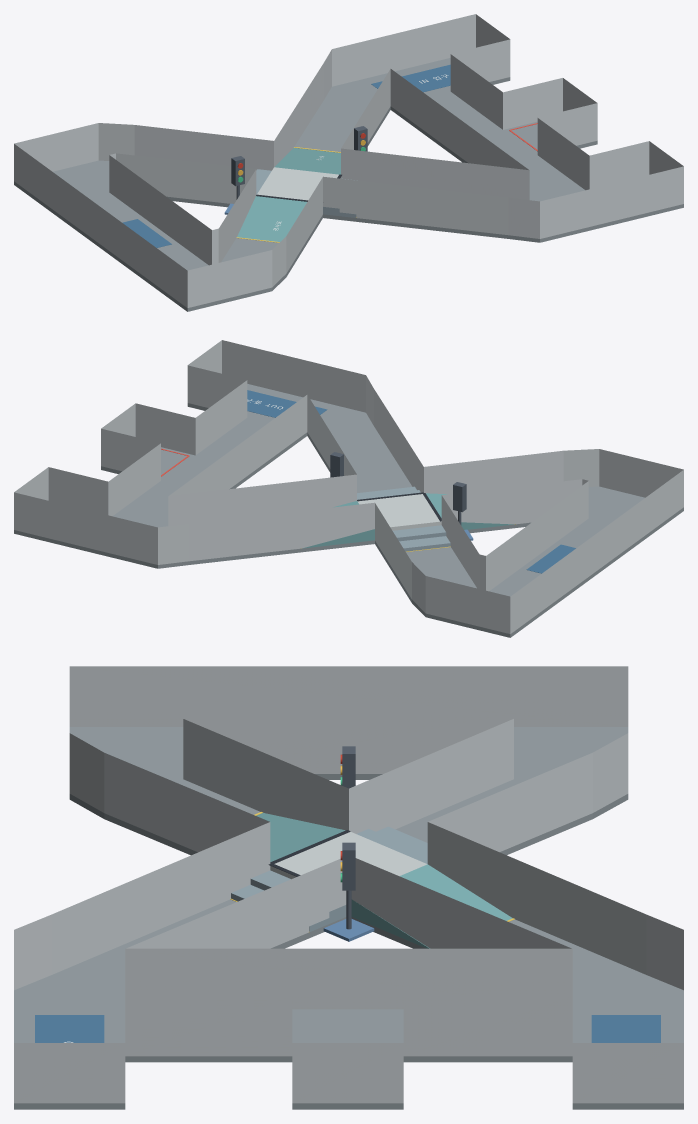
The model's file is arena.glb.
3 renders of one model, top to bottom at view 1: azimuth 30°, elevation 25°; view 2: azimuth 150°, elevation 25°; view 3: azimuth 270°, elevation 25°, orthographic. The views are drawn at different scales.
Parts seen in each view (by area): view 1: wall_outer_04, wall_outer_22, wall_right_inner_03, wall_outer_06, wall_outer_16, wall_outer_19, wall_right_inner_02, wall_left_inner_05, wall_left_inner_02, floor_right_straight, floor_left_straight, wall_outer_01 (+29 smaller); view 2: wall_outer_18, wall_outer_22, wall_right_inner_01, wall_outer_16, wall_outer_06, wall_right_inner_02, wall_outer_03, wall_left_inner_05, floor_right_straight, wall_left_inner_03, floor_left_straight, wall_outer_21 (+31 smaller); view 3: wall_outer_22, wall_right_inner_02, wall_outer_04, wall_left_inner_05, wall_outer_18, wall_outer_13, wall_outer_09, wall_left_inner_02, wall_left_inner_03, wall_right_inner_03, wall_right_inner_01, wall_outer_03 (+28 smaller).
Part boxes in pixels (box(x1,y1,x2,y2)): wall_outer_04: box(323, 176, 508, 235); wall_outer_22: box(14, 144, 187, 307); wall_right_inner_03: box(341, 148, 529, 199); wall_outer_06: box(540, 166, 683, 238); wall_outer_16: box(332, 14, 475, 86); wall_outer_19: box(134, 125, 273, 170); wall_right_inner_02: box(390, 69, 528, 169); wall_left_inner_05: box(109, 155, 211, 265); wall_left_inner_02: box(116, 153, 255, 203); floor_right_straight: box(390, 91, 584, 201); floor_left_straight: box(14, 166, 247, 311); wall_outer_01: box(187, 250, 272, 307); wall_outer_18: box(189, 502, 374, 561); wall_outer_22: box(510, 470, 683, 633); wall_right_inner_01: box(168, 474, 356, 525); wall_outer_16: box(14, 492, 157, 564); wall_outer_06: box(222, 340, 365, 412); wall_right_inner_02: box(169, 395, 307, 495); wall_outer_03: box(424, 450, 563, 494); wall_left_inner_05: box(486, 481, 588, 591); floor_right_straight: box(113, 417, 307, 527); wall_left_inner_03: box(442, 479, 582, 524); floor_left_straight: box(450, 492, 683, 637); wall_outer_21: box(425, 576, 510, 633); wall_outer_22: box(69, 666, 628, 726); wall_right_inner_02: box(125, 948, 572, 1009); wall_outer_04: box(52, 822, 270, 974); wall_left_inner_05: box(183, 713, 513, 773); wall_outer_18: box(427, 822, 646, 974); wall_outer_13: box(403, 996, 572, 1056); wall_outer_09: box(125, 996, 292, 1056); wall_left_inner_02: box(349, 719, 513, 833); wall_left_inner_03: box(183, 719, 348, 830); wall_right_inner_03: box(126, 859, 346, 948); wall_right_inner_01: box(351, 858, 571, 948); wall_outer_03: box(104, 753, 269, 852).
Size of the model in its own units: 8 by 0.9 by 6.02.
